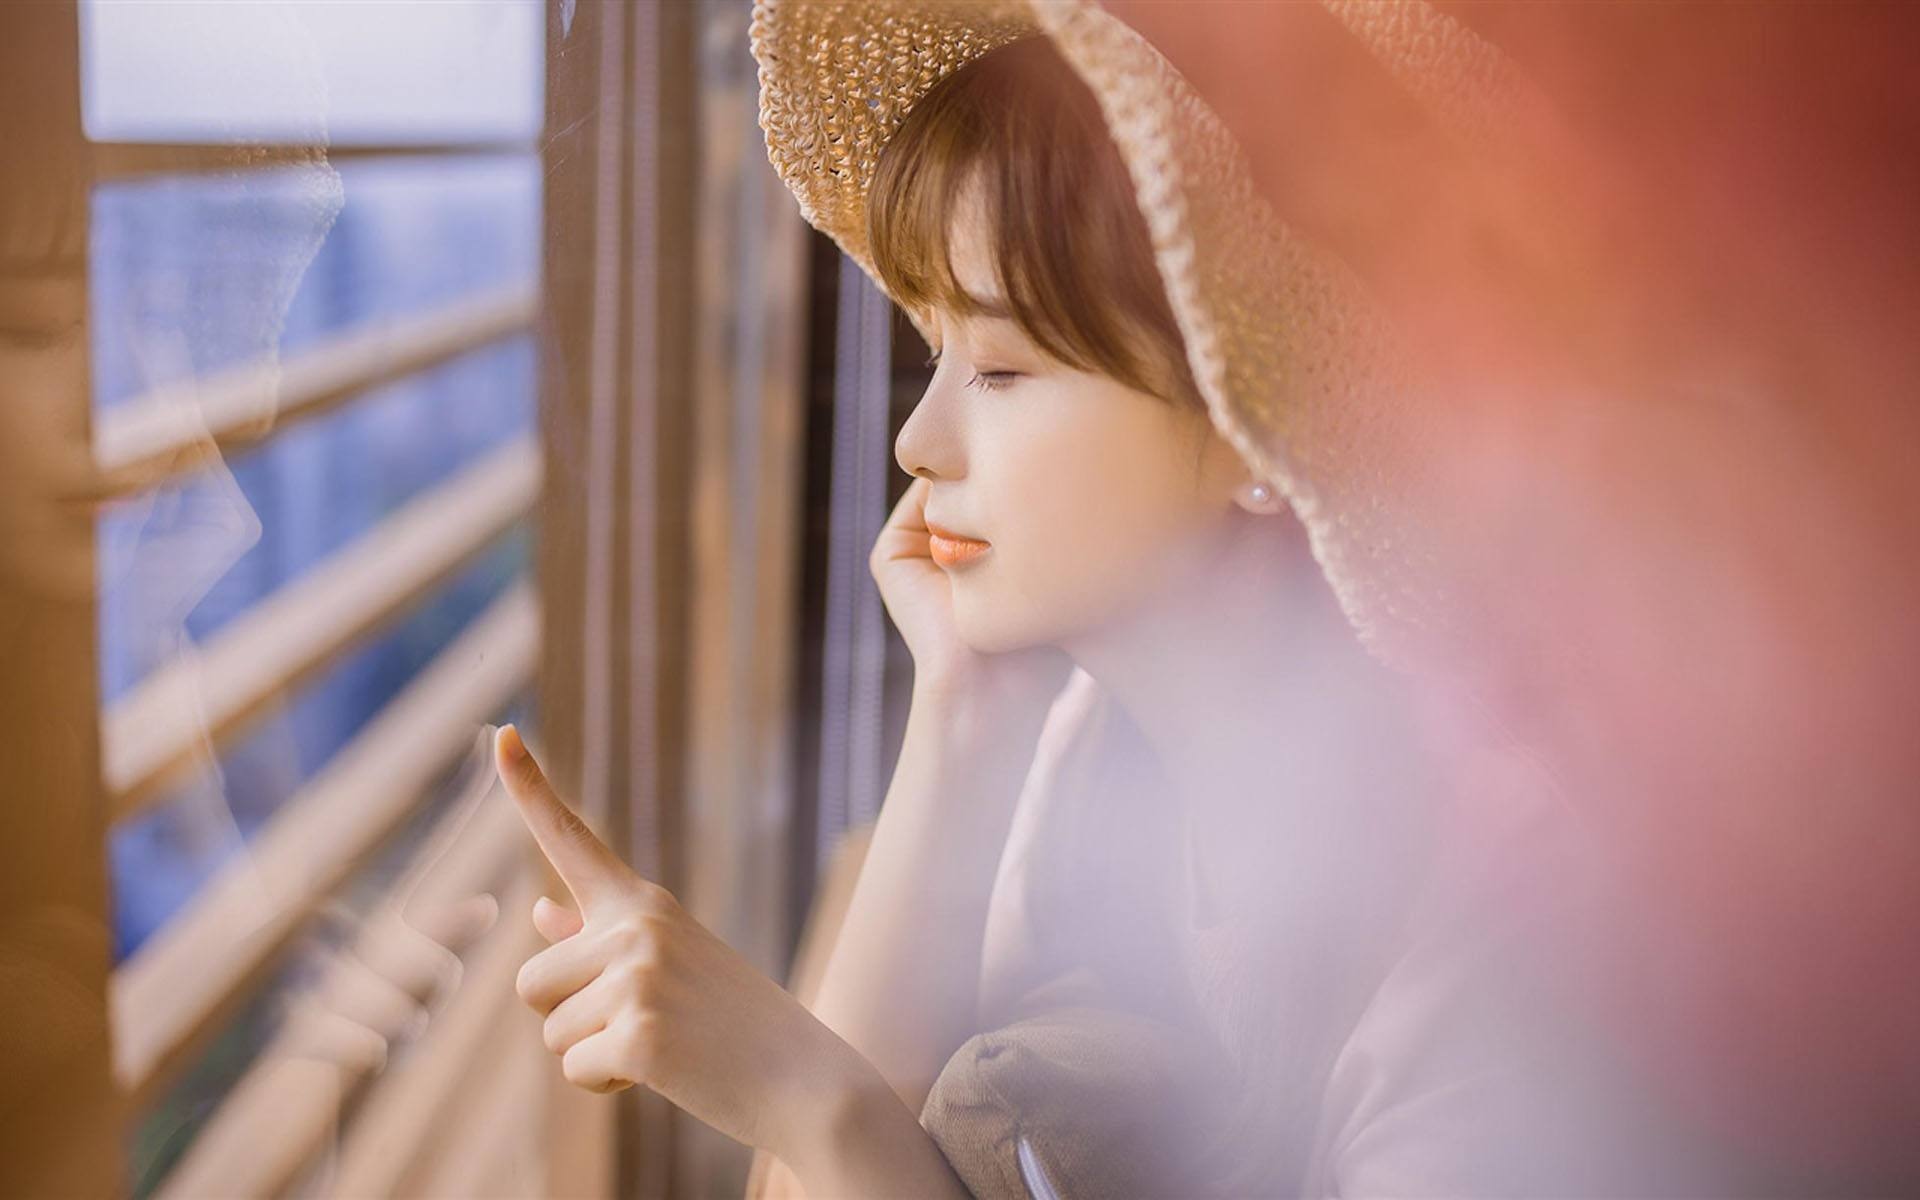person: (666, 80, 1693, 1115)
